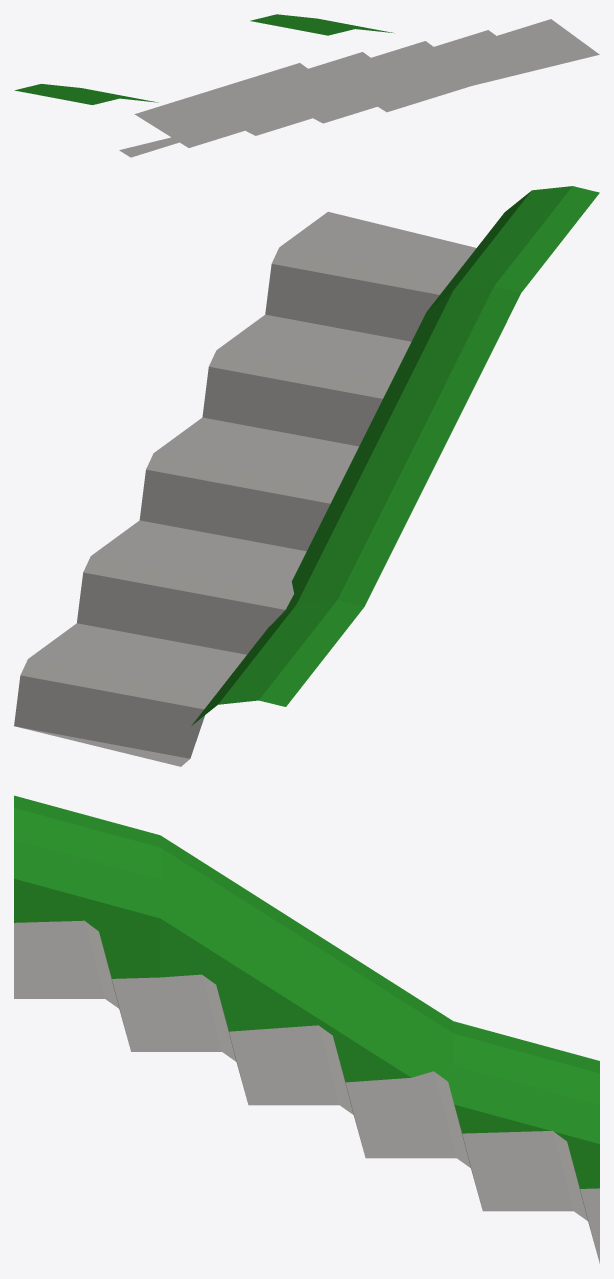
Rendered from Cliff_Terrain_Path_Steps_Grass_Edge.glb.
3 views of the same model, one above another, from view 1: azimuth 30°, elevation 25°; view 2: azimuth 150°, elevation 25°; view 3: azimuth 270°, elevation 25° (orthographic). The views are drawn at different scales.
Parts seen in each view (by area): view 1: Cliff_Terrain_Path_Steps_Grass_Edge; view 2: Cliff_Terrain_Path_Steps_Grass_Edge; view 3: Cliff_Terrain_Path_Steps_Grass_Edge.
Boxes of the visible parts, box(x1,y1,x2,y2) form: Cliff_Terrain_Path_Steps_Grass_Edge: box(14, 14, 599, 157); Cliff_Terrain_Path_Steps_Grass_Edge: box(14, 186, 599, 766); Cliff_Terrain_Path_Steps_Grass_Edge: box(14, 795, 599, 1263).
Bounding box in the file's own units: 1 × 1.3 × 2.
